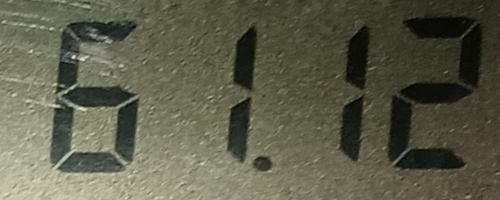.: (249, 153, 273, 174)
